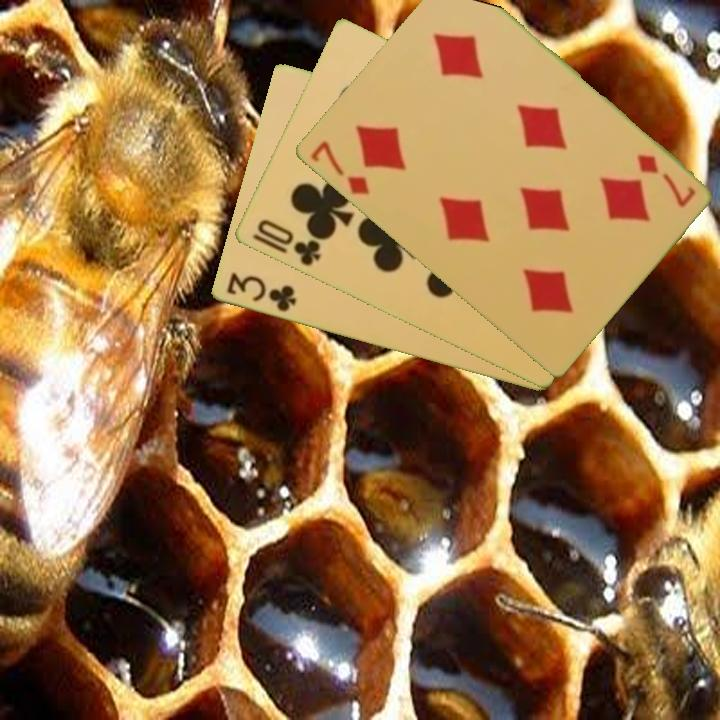10c: (253, 215, 323, 270)
3c: (223, 269, 299, 315)
7d: (306, 137, 372, 198), (632, 150, 699, 210)
